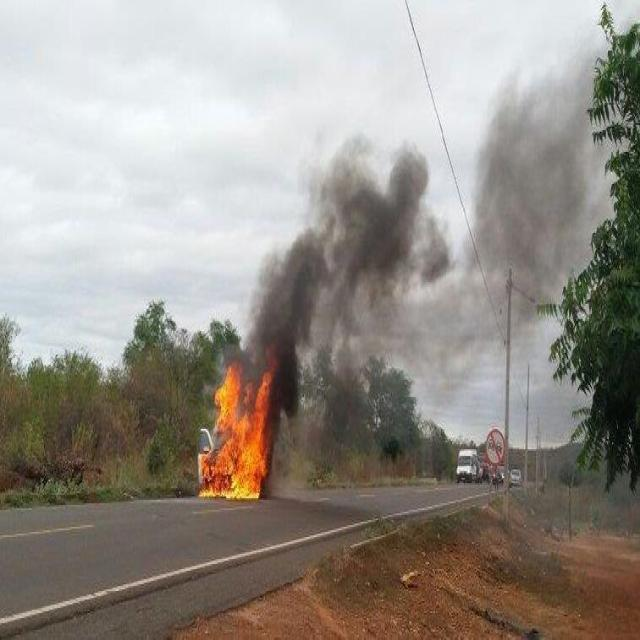Fire: (200, 362, 274, 498)
Smoke: (444, 48, 608, 398), (330, 119, 440, 357), (245, 236, 328, 349)
